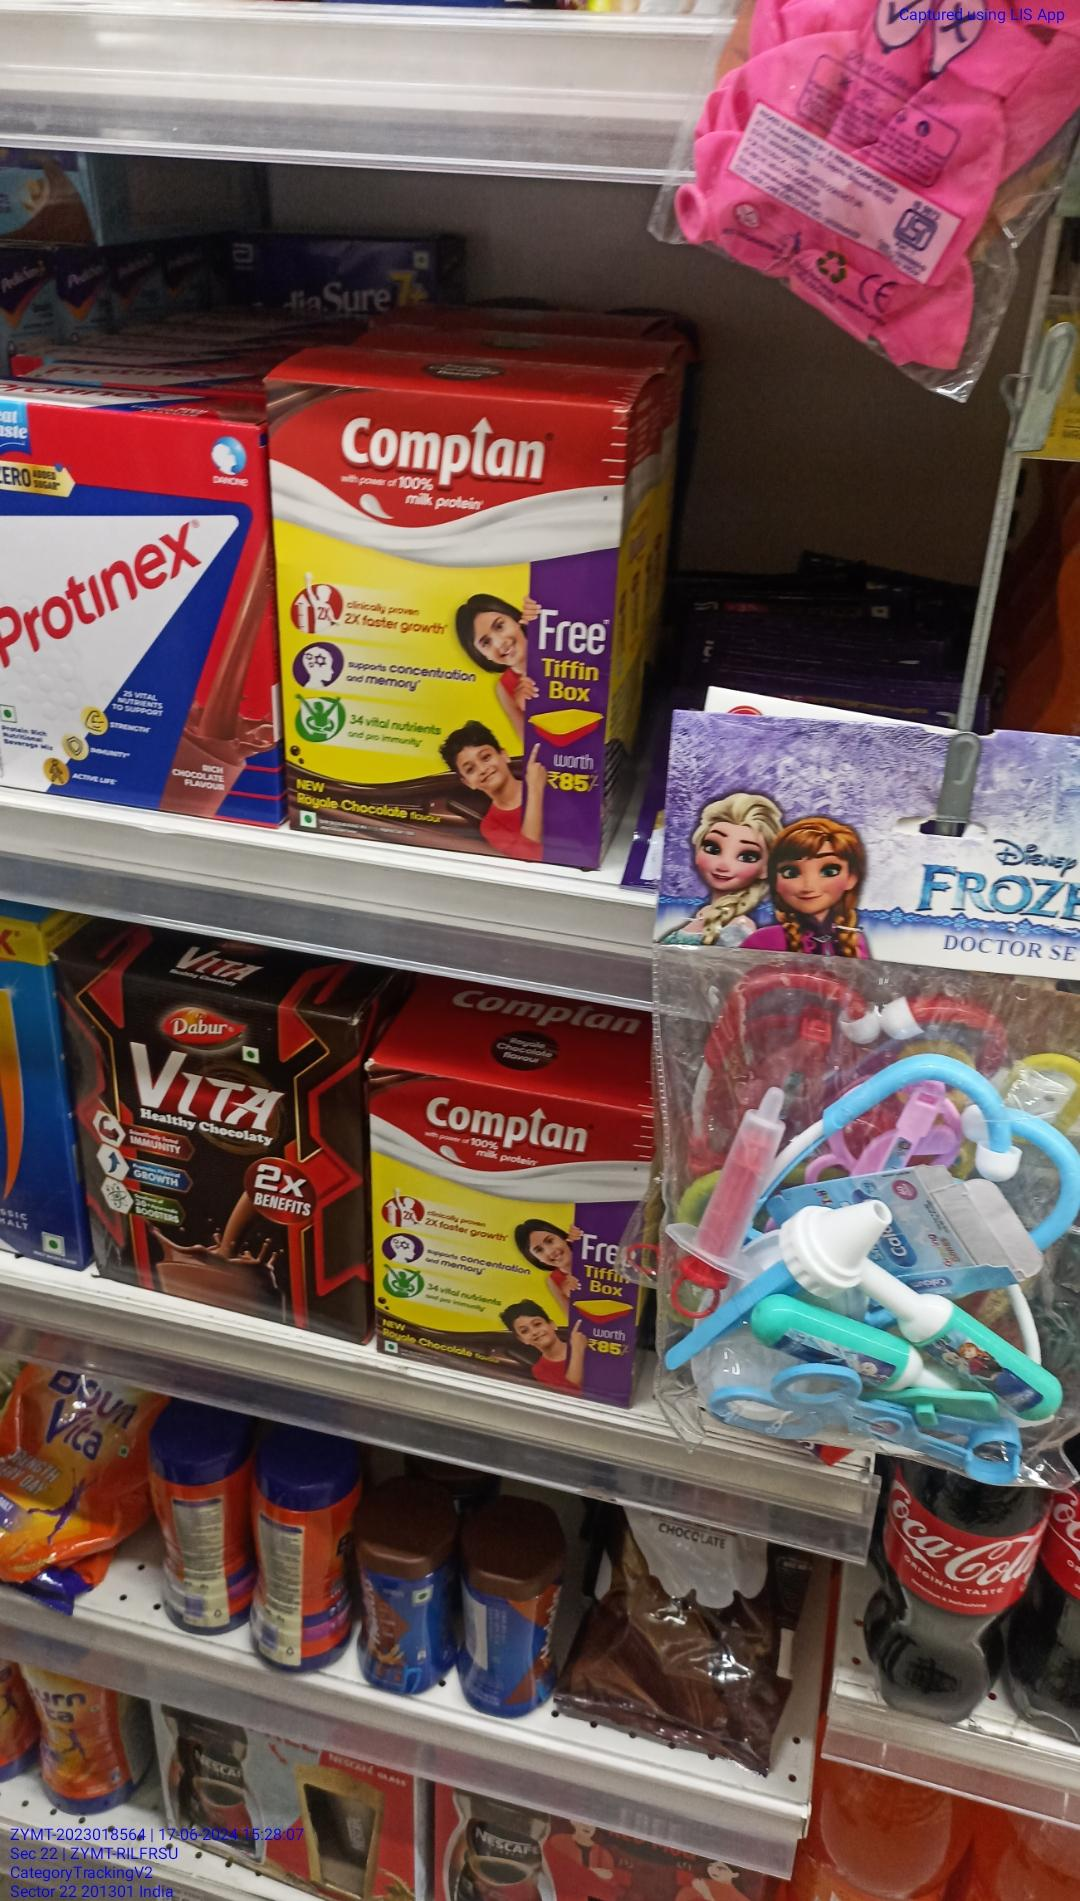COMPLAN_CHOCOLATE_500_GMS_PACK: (286, 389, 605, 870), (371, 1076, 641, 1406)
HORLICK_CHOCOLATE_200_G_JAR: (465, 1552, 554, 1721), (358, 1534, 447, 1687)
